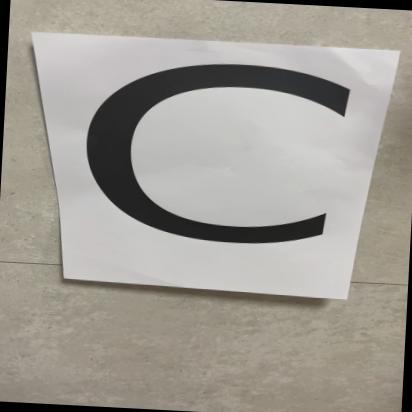seat: (20, 34, 400, 317)
